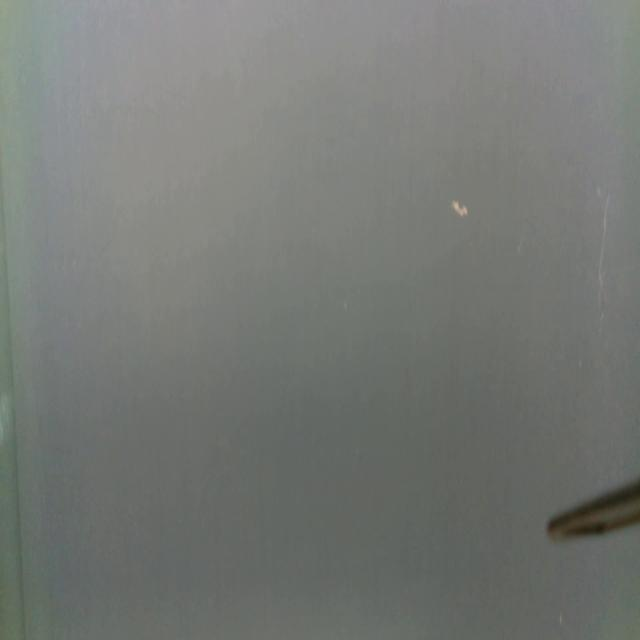crease: (0, 178, 25, 640)
hole: (451, 197, 469, 220)
